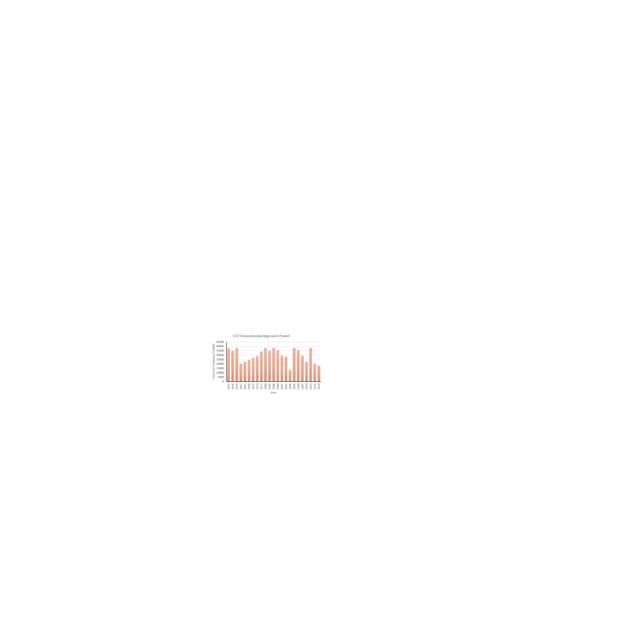Graph: (211, 333, 322, 395)
